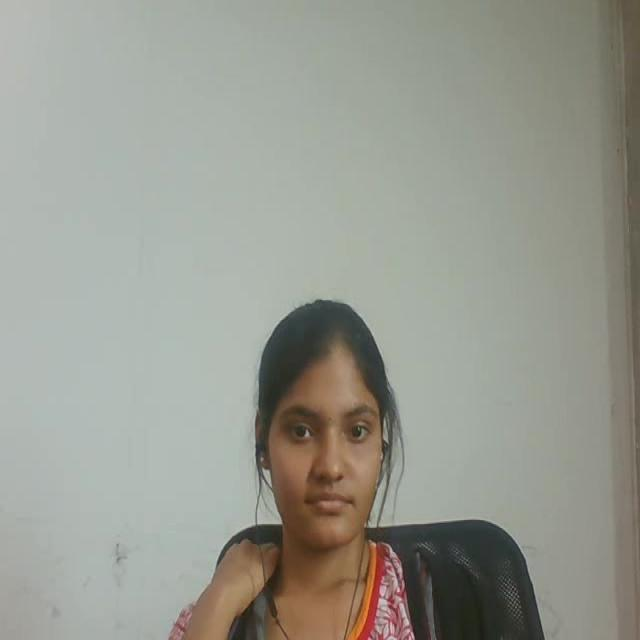Engaged: (238, 282, 404, 564)
